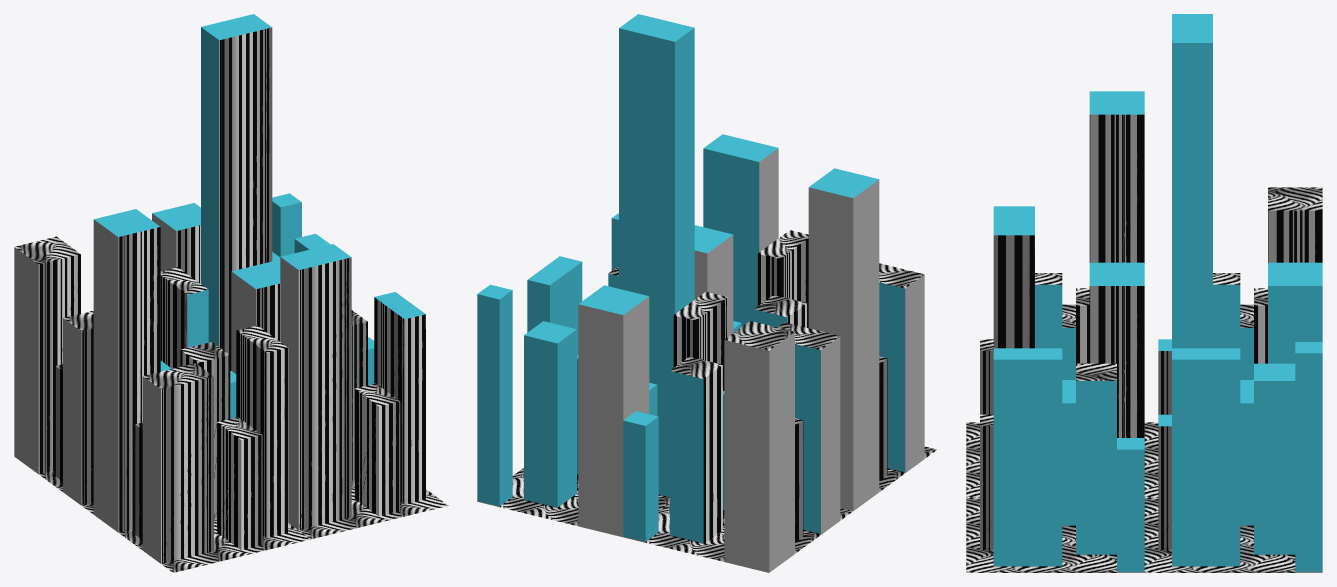
3 views of the same model, side by side, from view 1: azimuth 30°, elevation 25°; view 2: azimuth 150°, elevation 25°; view 3: azimuth 270°, elevation 25° (orthographic). The views are drawn at different scales.
Parts seen in each view (by area): view 1: scene; view 2: scene; view 3: scene.
Boxes of the visible parts, left/top/right/bottom form: scene: left=14, top=14, right=448, bottom=572; scene: left=477, top=14, right=936, bottom=572; scene: left=966, top=14, right=1322, bottom=572.
Bounding box in the file's own units: 120 × 180 × 120.
2 materials, 1 textured.
